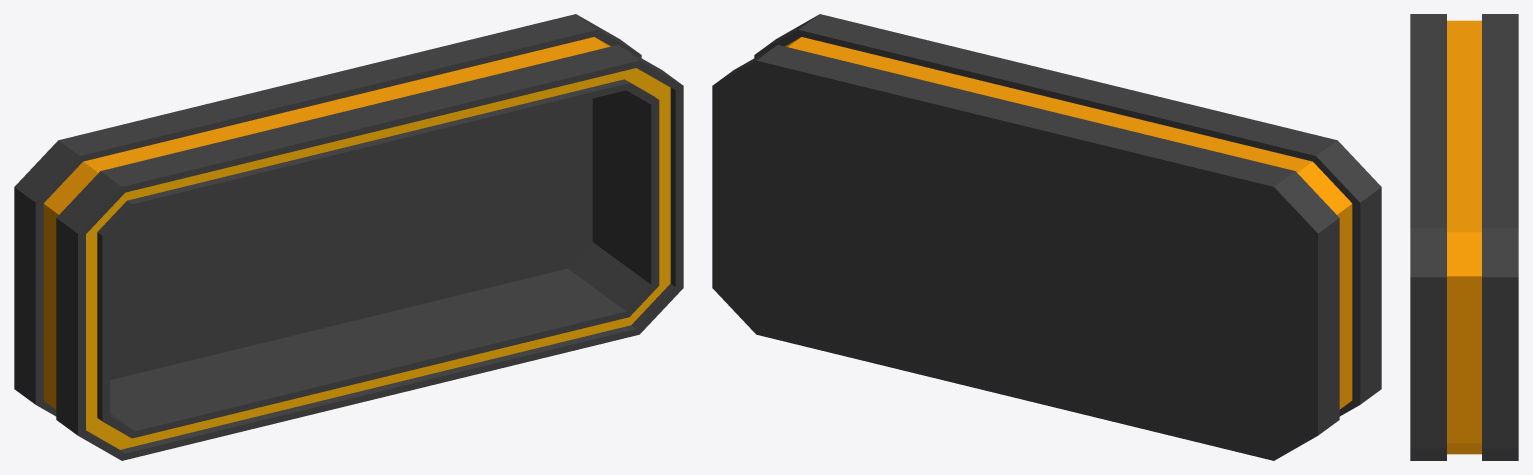
File: Stan 3.fbx
3 renders of one model, left to right at view 1: azimuth 30°, elevation 25°; view 2: azimuth 150°, elevation 25°; view 3: azimuth 270°, elevation 25°, orthographic. The views are drawn at different scales.
Visible parts, largest first — view 1: Cube.080; view 2: Cube.080; view 3: Cube.080.
Part boxes in pixels (box(x1,y1,x2,y2)): Cube.080: box(14, 14, 683, 460); Cube.080: box(712, 14, 1381, 460); Cube.080: box(1410, 14, 1518, 460).
Size of the model in its own units: 1.3 by 0.562 by 0.2367.
